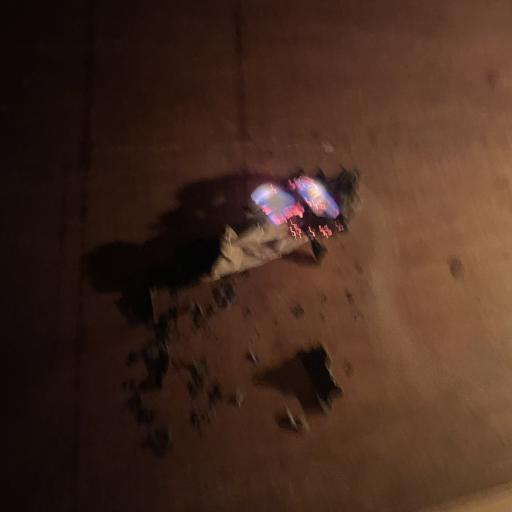fire: (246, 159, 361, 239)
